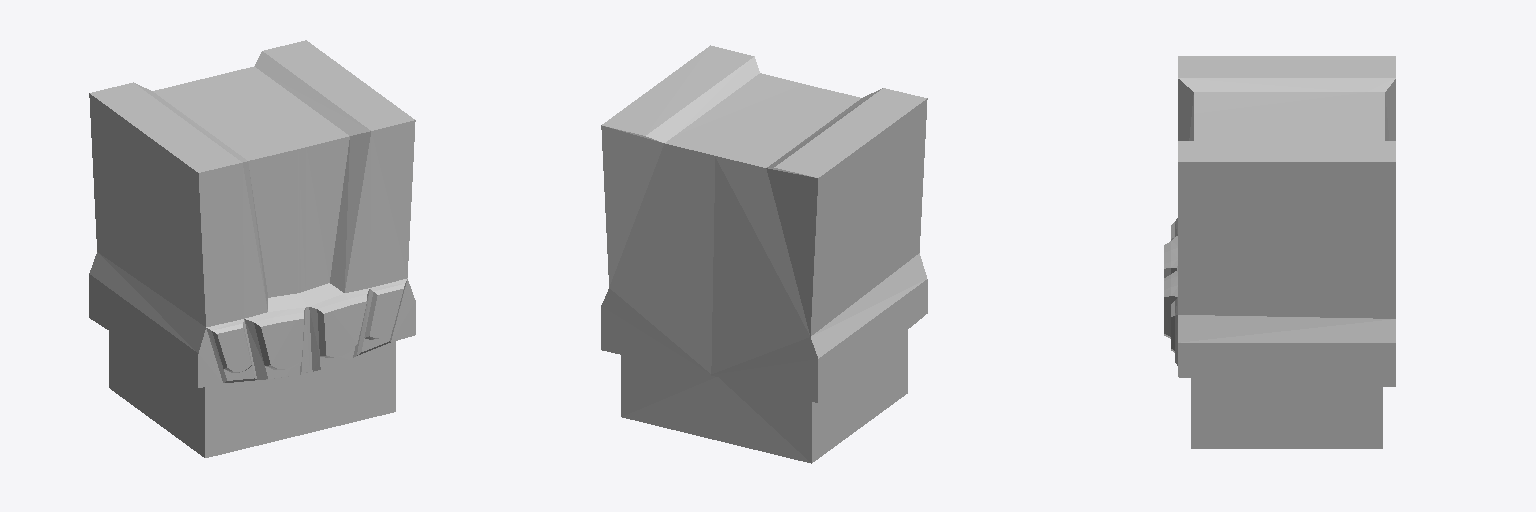
File: arm_berill_chest.obj
3 renders of one model, left to right at view 1: azimuth 30°, elevation 25°; view 2: azimuth 150°, elevation 25°; view 3: azimuth 270°, elevation 25°, orthographic.
Visible parts, largest first — view 1: Cube_Cube.001; view 2: Cube_Cube.001; view 3: Cube_Cube.001.
Boxes of the visible parts, x1=… form: Cube_Cube.001: x1=89, y1=40, x2=415, y2=457; Cube_Cube.001: x1=601, y1=45, x2=927, y2=463; Cube_Cube.001: x1=1164, y1=56, x2=1395, y2=448.
Bounding box in the file's own units: 2.16 × 2.79 × 2.01.